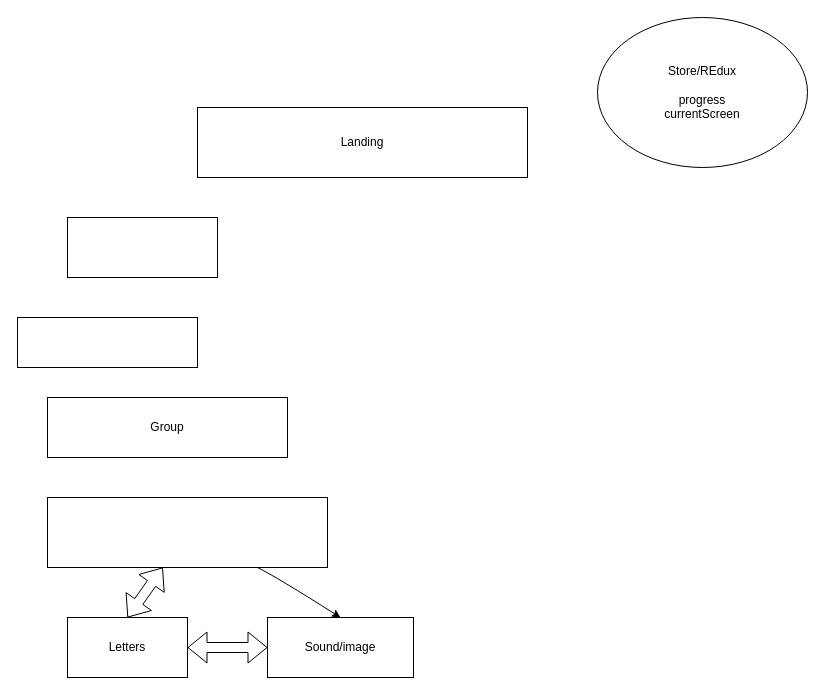
The diagram is 825 pixels wide and 695 high, and some of its shapes have lost their labels. Each missing label, with the centre of its shape:
"Lessons/screens" belongs at point 107,342.
"NAV" belongs at point 142,247.
"Words" belongs at point 187,532.
